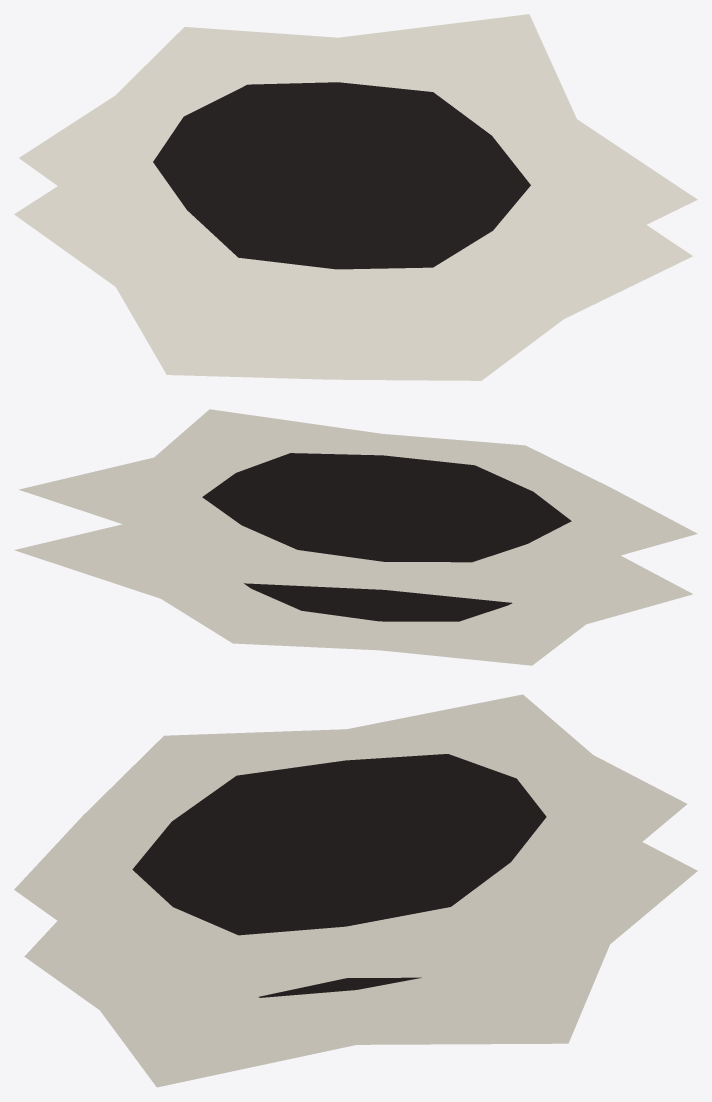
Rendered from hole_stand_05.obj.
3 renders of one model, top to bottom at view 1: azimuth 30°, elevation 25°; view 2: azimuth 150°, elevation 25°; view 3: azimuth 270°, elevation 25°, orthographic. The views are drawn at different scales.
Bounding box in the file's own units: 0.05 × 0.0122 × 0.0496.
